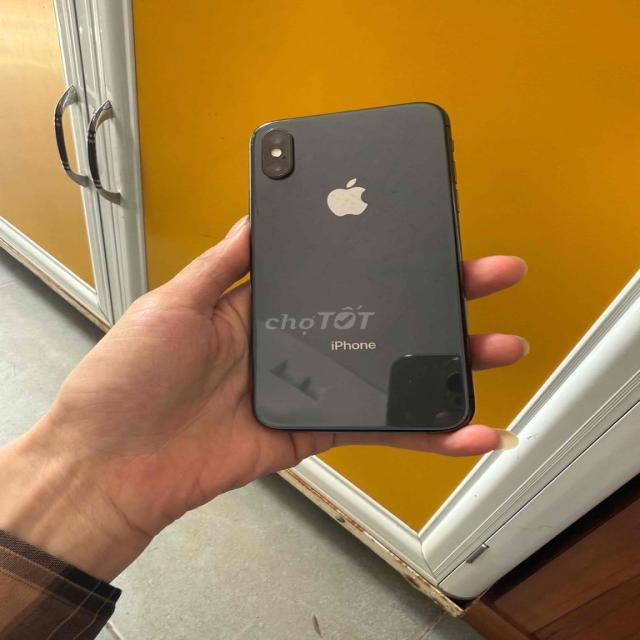gen_x_xs: (251, 102, 473, 434)
